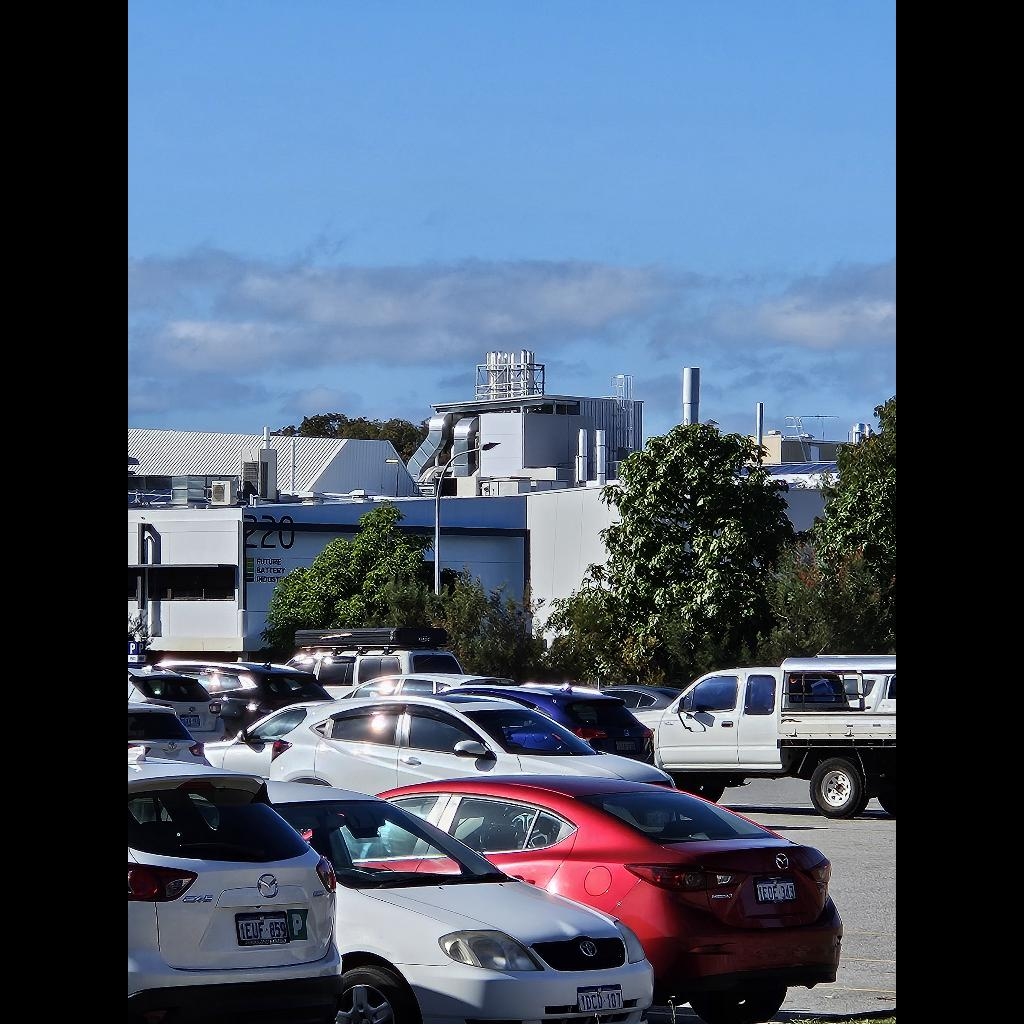BuildingCodes: (243, 514, 295, 550)
